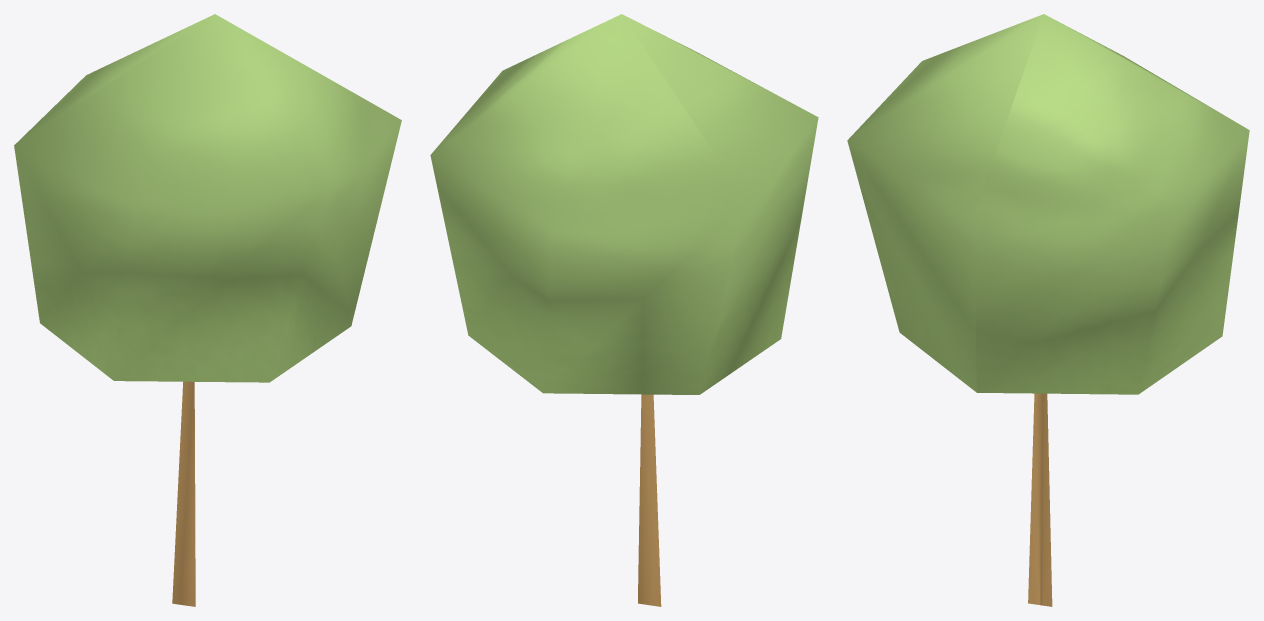
3 views of the same model, side by side, from view 1: azimuth 30°, elevation 25°; view 2: azimuth 150°, elevation 25°; view 3: azimuth 270°, elevation 25° (orthographic). The views are drawn at different scales.
Parts seen in each view (by area): view 1: LOD2Plod; view 2: LOD2Plod; view 3: LOD2Plod.
Part boxes in pixels (<box>): LOD2Plod: <box>14,14,401,606</box>; LOD2Plod: <box>430,14,818,606</box>; LOD2Plod: <box>847,14,1249,606</box>.
Size of the model in its own units: 11.39 by 20.02 by 12.11.
1 material, 1 textured.
